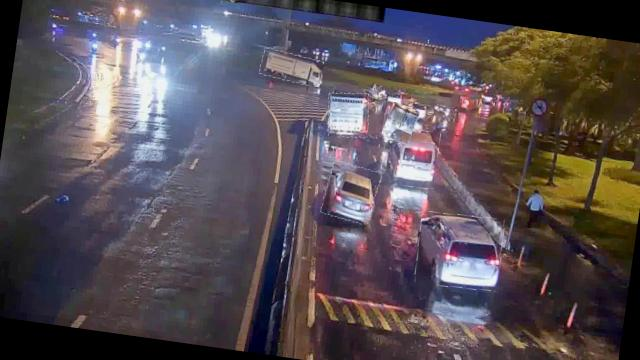Bus: (378, 126, 442, 191)
Car: (413, 209, 506, 293), (321, 160, 380, 224)
Truck: (259, 49, 324, 86), (324, 89, 372, 139), (382, 102, 420, 144)
